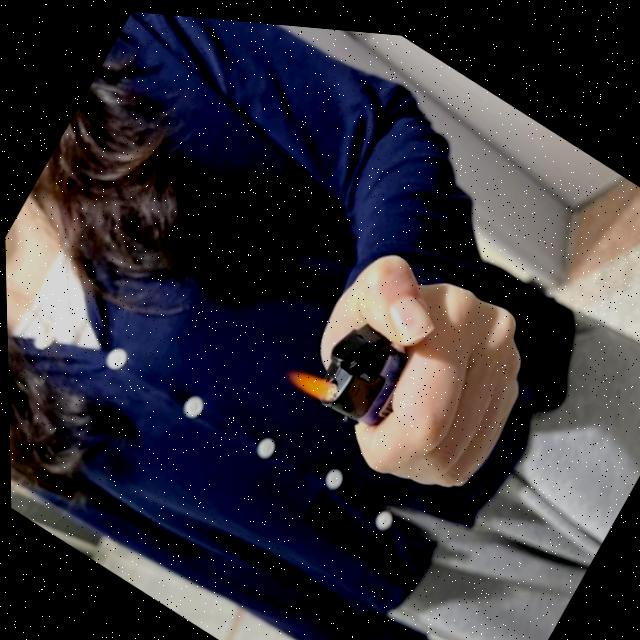Fire: (274, 348, 339, 402)
